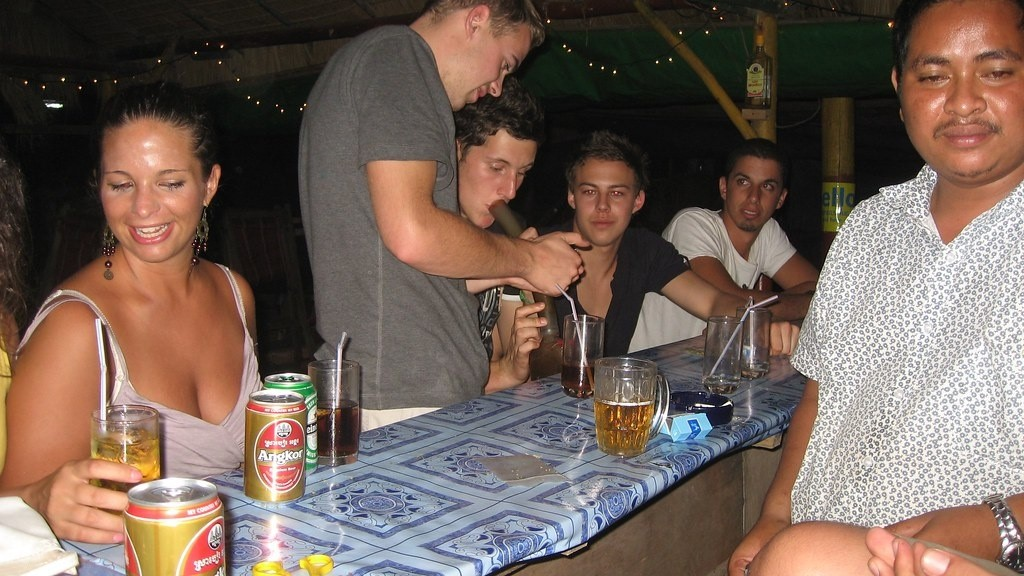face_no_mask: (888, 2, 1020, 186), (94, 91, 223, 266), (436, 1, 537, 119), (453, 104, 537, 232), (567, 140, 646, 246), (717, 140, 789, 233)
